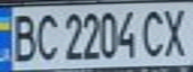0: (100, 8, 121, 60)
2: (60, 8, 84, 61), (81, 8, 103, 61)
4: (115, 6, 142, 58)
B: (6, 9, 39, 63)
C: (139, 6, 169, 58), (33, 9, 60, 62)
X: (157, 3, 193, 59)
